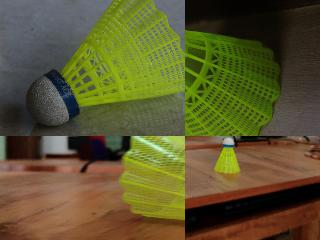shuttlecock: (25, 0, 184, 126), (185, 1, 281, 135), (119, 136, 184, 239), (213, 137, 241, 173)
